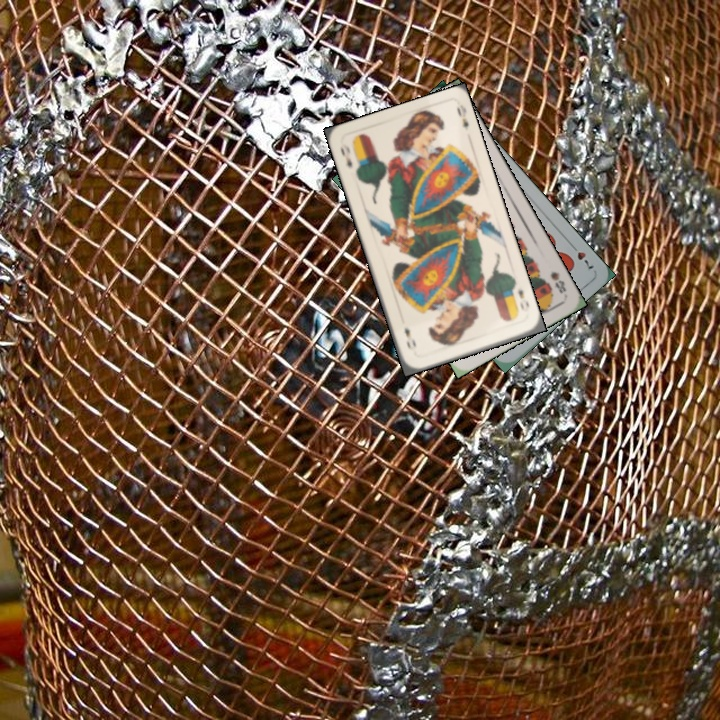EO: (336, 139, 355, 170), (514, 284, 532, 313)
H7: (566, 239, 596, 273)
S8: (546, 267, 569, 296)
